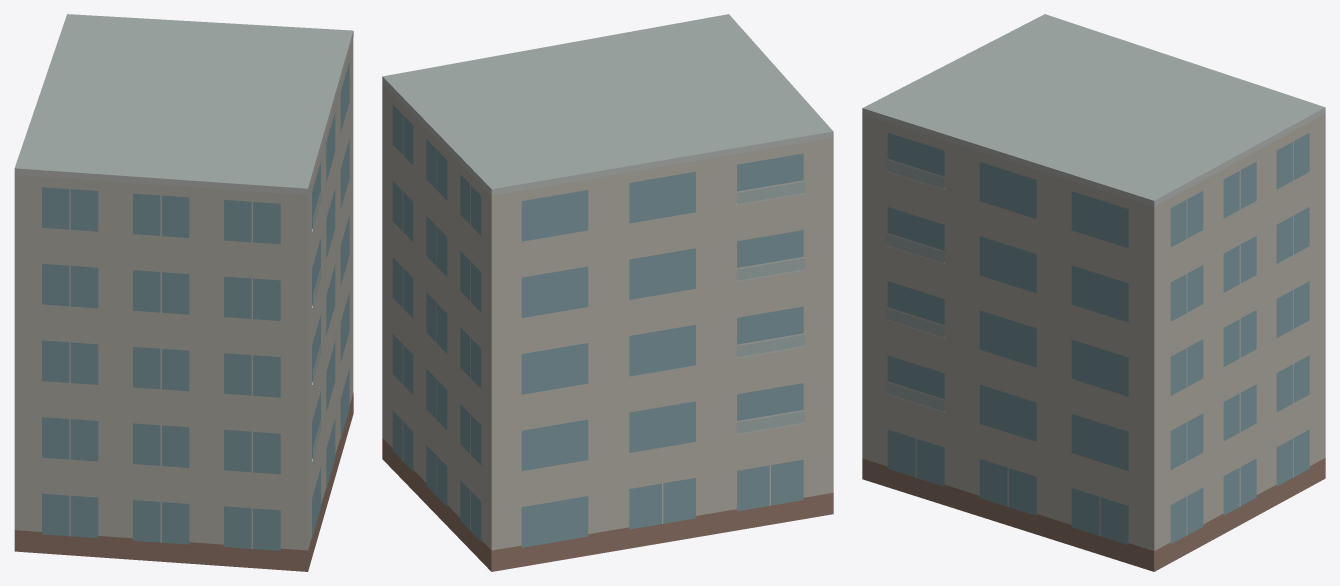
The model's file is survey-upis-32630782.glb.
3 views of the same model, side by side, from view 1: azimuth 30°, elevation 25°; view 2: azimuth 150°, elevation 25°; view 3: azimuth 270°, elevation 25° (orthographic). The views are drawn at different scales.
Parts seen in each view (by area): view 1: survey-upis-32630782.tmp; view 2: survey-upis-32630782.tmp; view 3: survey-upis-32630782.tmp.
Boxes of the visible parts, x1,y1,x2,y2 form: survey-upis-32630782.tmp: [14, 14, 353, 571]; survey-upis-32630782.tmp: [382, 14, 833, 571]; survey-upis-32630782.tmp: [862, 14, 1325, 571].
Size of the model in its own units: 15.77 by 14.6 by 16.53.
